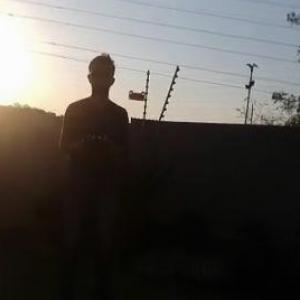follow: (54, 45, 134, 299)
